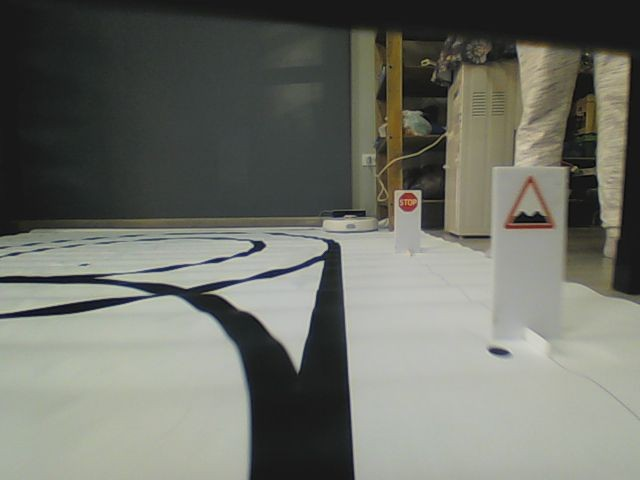Nerov: (502, 174, 557, 231)
Stop: (396, 192, 418, 213)
